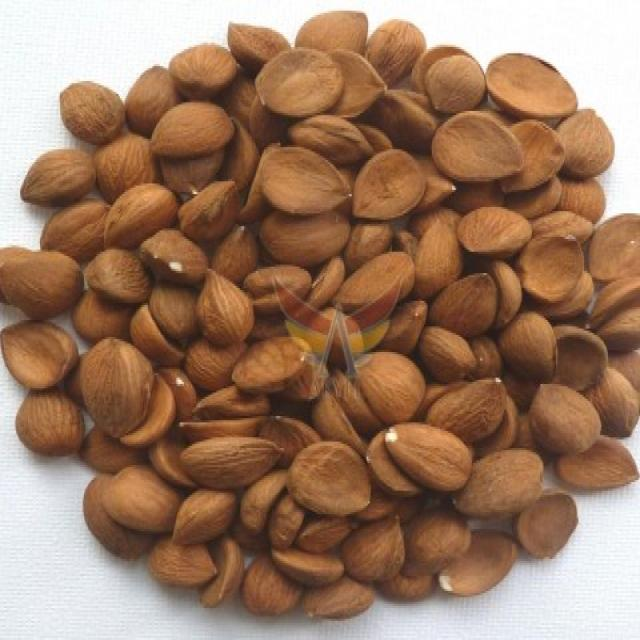cekirdek: (288, 433, 380, 546), (258, 135, 346, 240), (158, 111, 236, 190)
